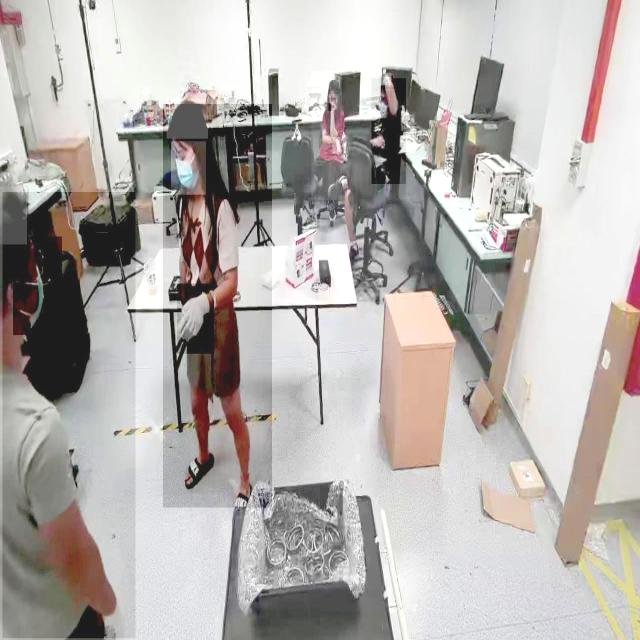face_mask: (13, 237, 62, 335), (171, 141, 206, 195)
face_nomask: (328, 94, 338, 104)
hand_glove: (177, 284, 215, 354)
hand_noglove: (333, 137, 341, 155), (381, 73, 392, 86), (328, 98, 336, 112)
head_nohelmet: (166, 99, 208, 140), (0, 187, 28, 245), (379, 76, 394, 90), (328, 78, 340, 90)
person: (2, 192, 136, 639), (163, 104, 273, 508), (312, 71, 342, 201), (372, 78, 406, 185)
